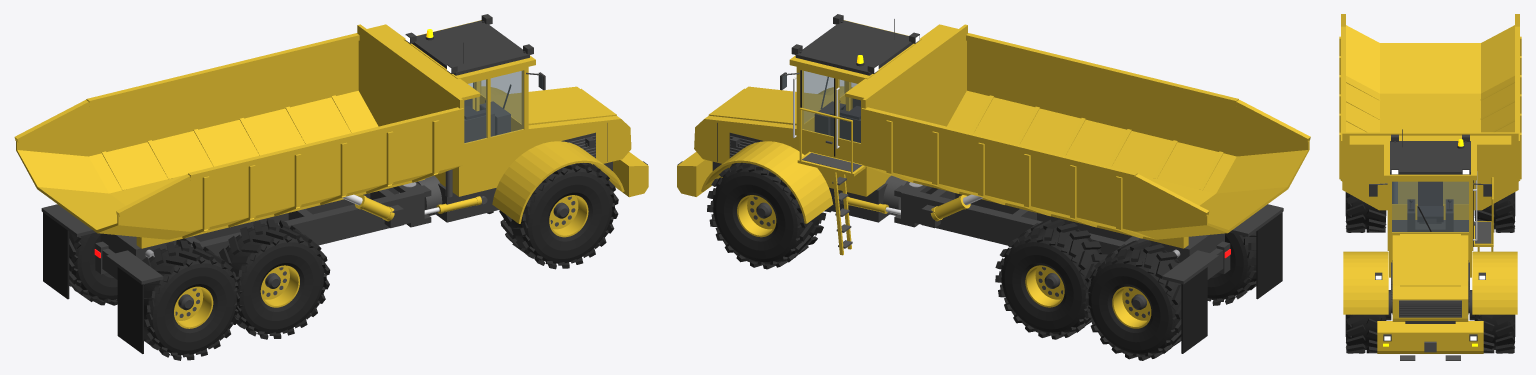
The model's file is articulated_dump_truck.glb.
3 renders of one model, left to right at view 1: azimuth 30°, elevation 25°; view 2: azimuth 150°, elevation 25°; view 3: azimuth 270°, elevation 25°, orthographic. The views are drawn at different scales.
Visible parts, largest first — view 1: dump_body_tilt, tractor, trailer_rotate, cab, wheel_bogie_front_right_spin, wheel_bogie_rear_right_spin, wheel_front_right_spin, wheel_bogie_rear_left_spin, hoist_cylinder_right_rotate; view 2: dump_body_tilt, cab, trailer_rotate, tractor, wheel_bogie_front_left_spin, wheel_bogie_rear_left_spin, wheel_front_left_spin, wheel_bogie_rear_right_spin, hoist_cylinder_left_rotate; view 3: dump_body_tilt, tractor, cab, wheel_front_right_spin, wheel_front_left_spin, wheel_bogie_front_right_spin, wheel_bogie_front_left_spin.
Part boxes in pixels (box(x1,y1,x2,y2)): dump_body_tilt: box(14, 24, 480, 248); tractor: box(416, 86, 648, 223); trailer_rotate: box(41, 182, 431, 353); cab: box(403, 14, 545, 196); wheel_bogie_front_right_spin: box(219, 219, 330, 339); wheel_bogie_rear_right_spin: box(142, 240, 242, 360); wheel_front_right_spin: box(499, 163, 618, 269); wheel_bogie_rear_left_spin: box(69, 232, 117, 305); hoist_cylinder_right_rotate: box(355, 195, 394, 221); dump_body_tilt: box(845, 24, 1310, 248); cab: box(780, 14, 921, 255); trailer_rotate: box(894, 182, 1283, 353); tractor: box(677, 86, 908, 223); wheel_bogie_front_left_spin: box(995, 219, 1107, 339); wheel_bogie_rear_left_spin: box(1082, 240, 1181, 360); wheel_front_left_spin: box(707, 162, 826, 269); wheel_bogie_rear_right_spin: box(1207, 231, 1256, 305); hoist_cylinder_left_rotate: box(930, 195, 970, 221); dump_body_tilt: box(1339, 14, 1521, 210); tractor: box(1343, 182, 1517, 360); cab: box(1369, 129, 1493, 277); wheel_front_right_spin: box(1345, 314, 1386, 353); wheel_front_left_spin: box(1474, 314, 1515, 353); wheel_bogie_front_right_spin: box(1345, 192, 1386, 232); wheel_bogie_front_left_spin: box(1474, 192, 1515, 232).
Bounding box in the file's own units: 10.86 × 4.12 × 3.6.
Materials: 14 (14 with a texture image).
